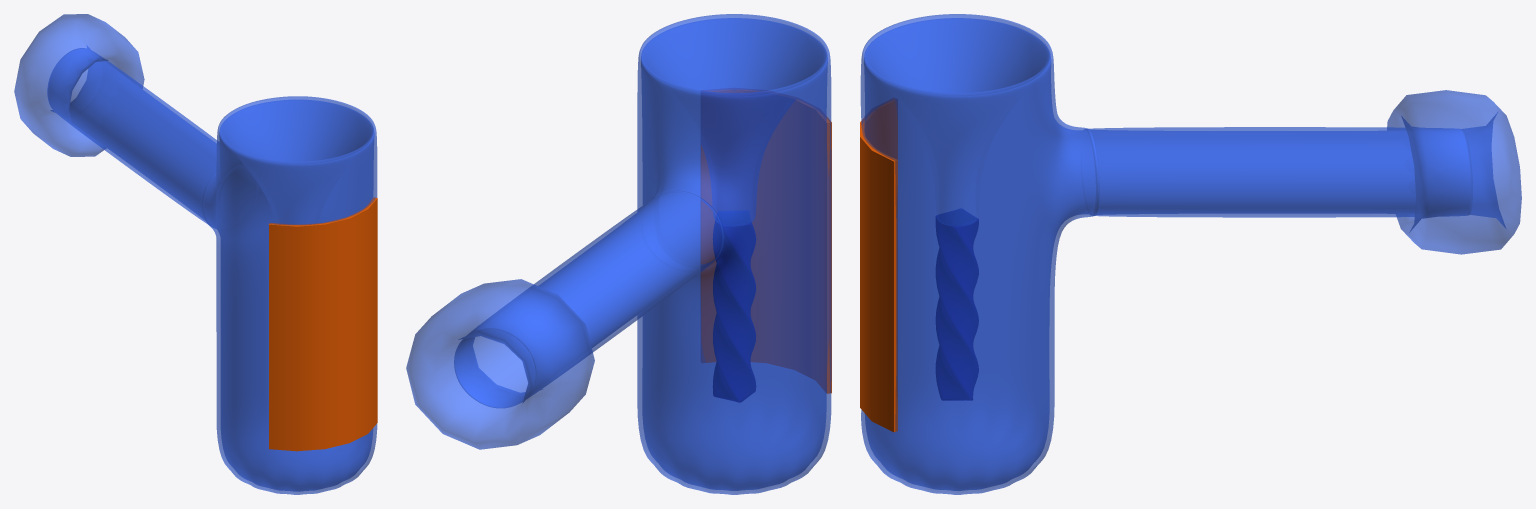
The model's file is bubblerv3.obj.
3 renders of one model, left to right at view 1: azimuth 30°, elevation 25°; view 2: azimuth 150°, elevation 25°; view 3: azimuth 270°, elevation 25°, orthographic. The views are drawn at different scales.
Visible parts, largest first — view 1: Cylinder001, Object003, Object001, Object002; view 2: Cylinder001, Object001, Object003, Object002, Box001; view 3: Cylinder001, Object001, Object002, Object003, Box001.
Boxes of the visible parts, x1,y1,x2,y2 form: Cylinder001: [202, 96, 377, 494]; Object003: [269, 197, 377, 451]; Object001: [47, 48, 256, 228]; Object002: [14, 14, 144, 156]; Cylinder001: [637, 14, 831, 494]; Object001: [454, 191, 723, 407]; Object003: [701, 89, 831, 393]; Object002: [406, 279, 594, 449]; Box001: [713, 221, 755, 402]; Cylinder001: [860, 14, 1099, 494]; Object001: [1084, 127, 1472, 217]; Object002: [1387, 90, 1521, 254]; Object003: [860, 99, 897, 432]; Box001: [936, 216, 978, 400].
Size of the model in its own units: 1.48 by 3.56 by 5.02.
